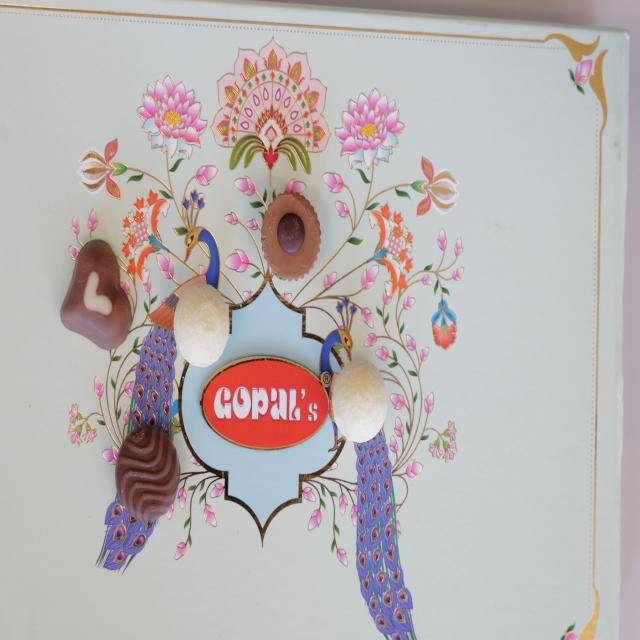Comtesse: (333, 357, 390, 444), (175, 282, 231, 366)
Noblesse: (262, 192, 320, 280)
Noir_authentique: (117, 424, 181, 518)
Passion_au_lait: (59, 237, 135, 352)
